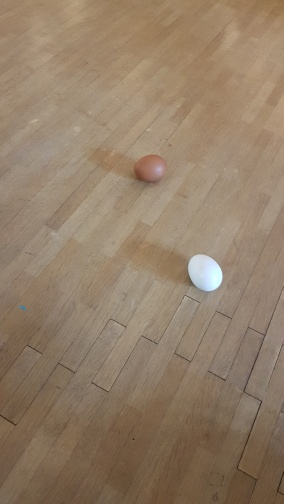egg: (187, 253, 225, 292), (132, 153, 169, 184)
